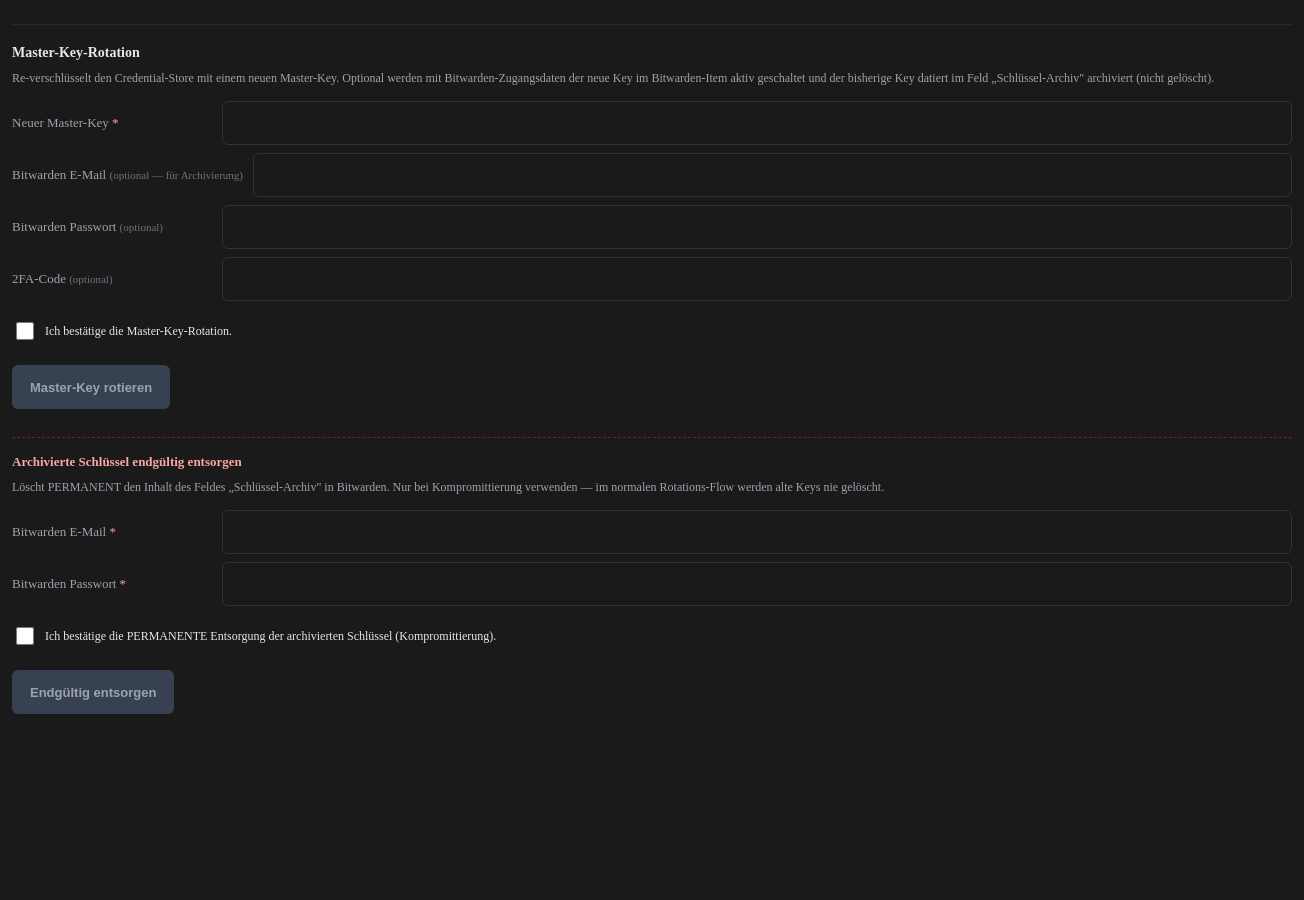
Test: MasterKeyRotationSection — Rotations-Formular › mit Bitwarden-Daten: POST enthält bwEmail/bwPassword; archive:{ok:true} zeigt grüne Stufe 2
Type "a-new-secure-master-key-value" into the password field labelled "Neuer Master-Key *" at (757, 123), box [222,101,1292,145]
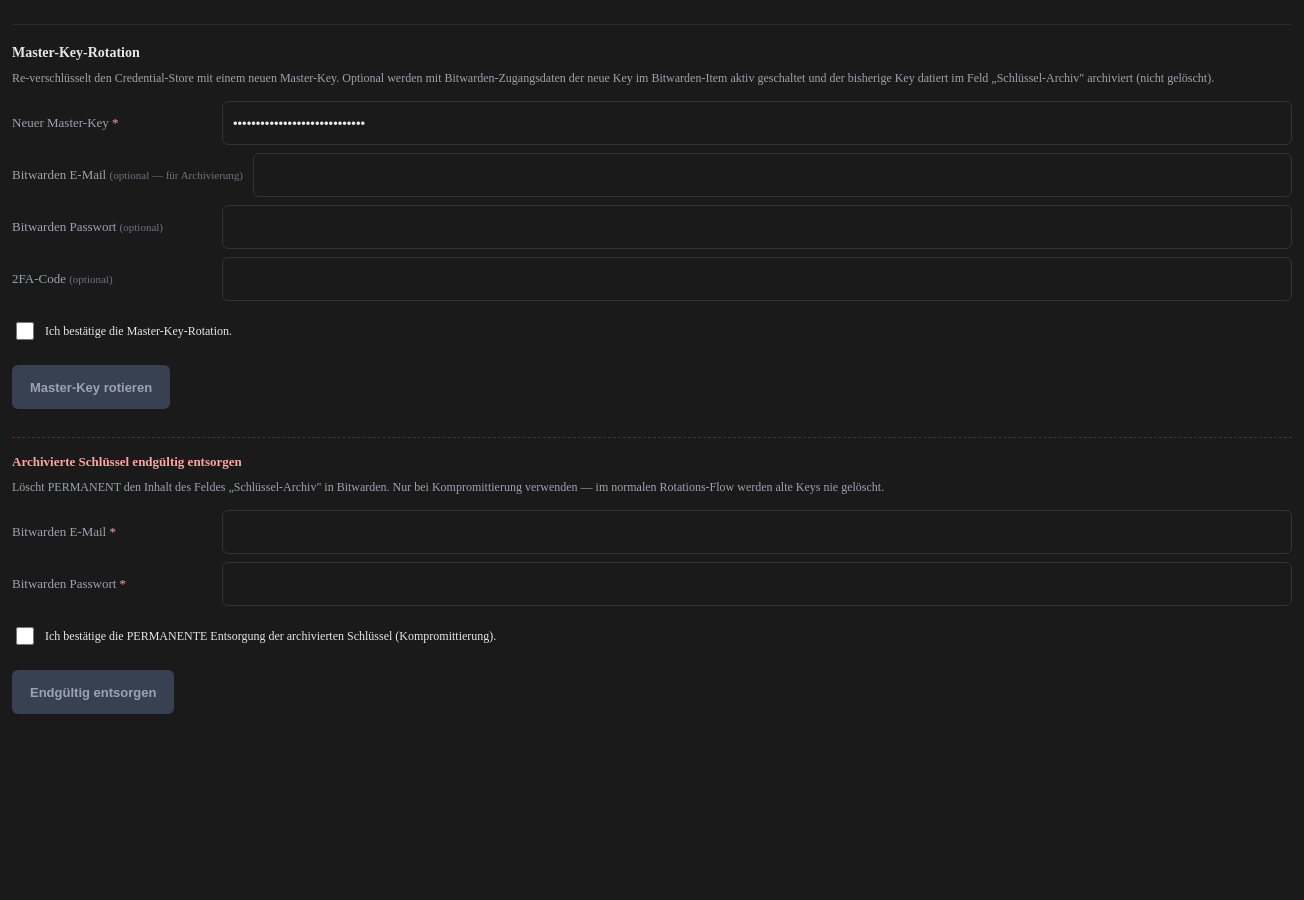
Type "admin@example.com" into the field labelled "Bitwarden E-Mail (optional — für Archivierung)" at (772, 175), box [253,153,1292,197]
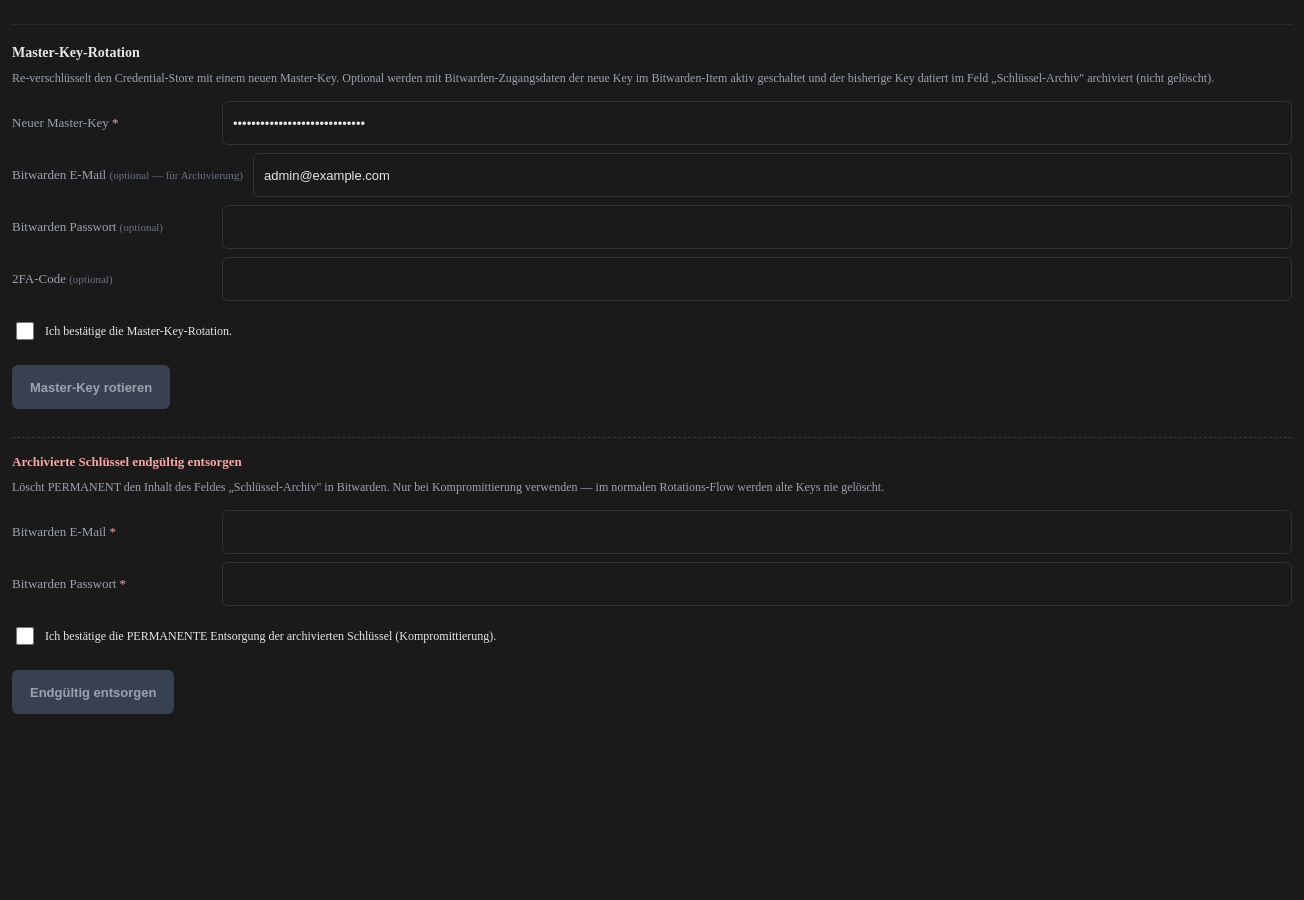
Type "bw-secret-password" into the password field labelled "Bitwarden Passwort (optional)" at (757, 227), box [222,205,1292,249]
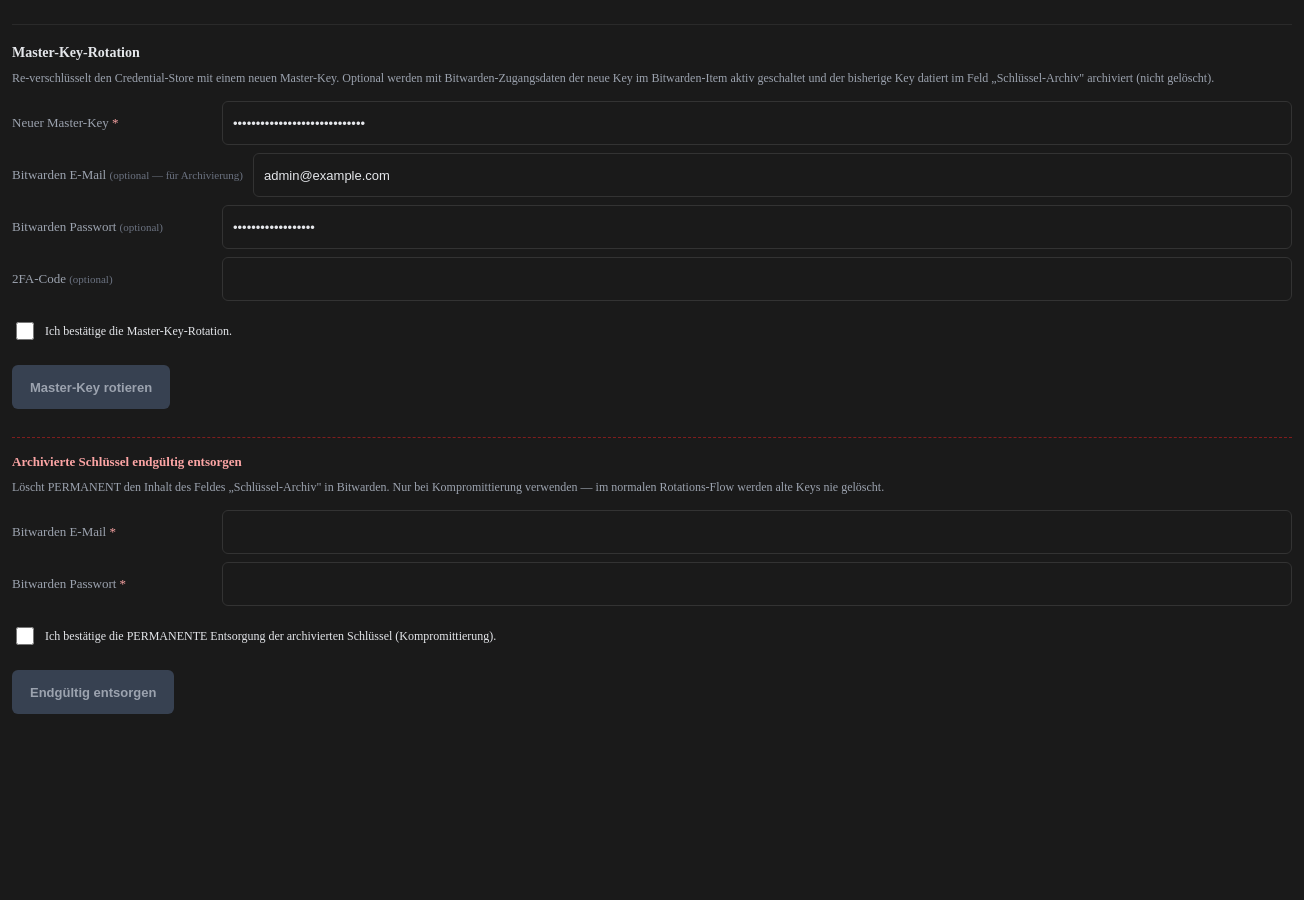
Click the checkbox labelled "Ich bestätige die Master-Key-Rotation." at (25, 331), box [16,322,34,340]
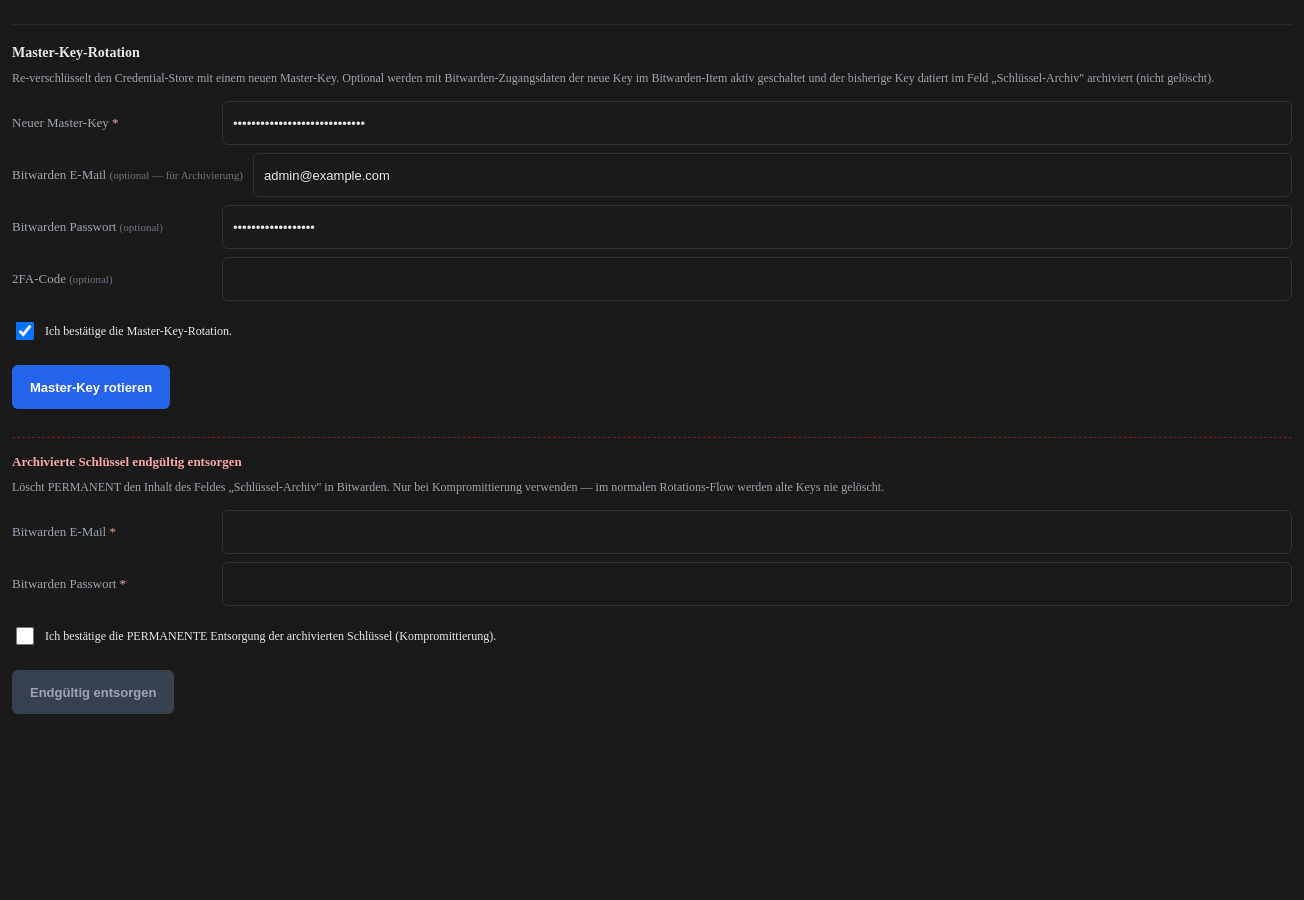
Click the button "Master-Key rotieren" at (91, 387), box [12,365,170,409]
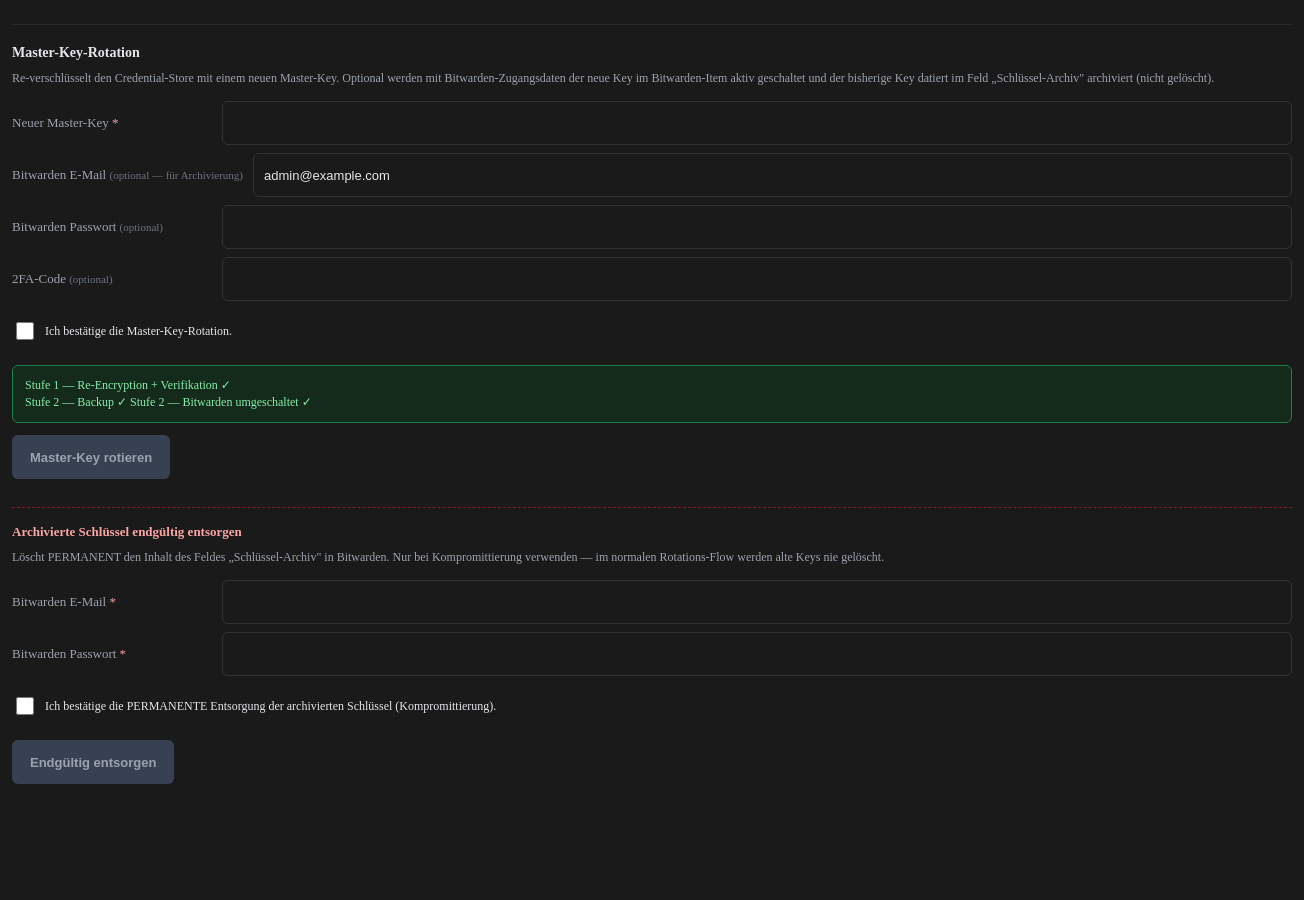
expect the picture "Stufe 2 — Bitwarden umgeschaltet ✓" is shown: met, box [130,395,312,409]
